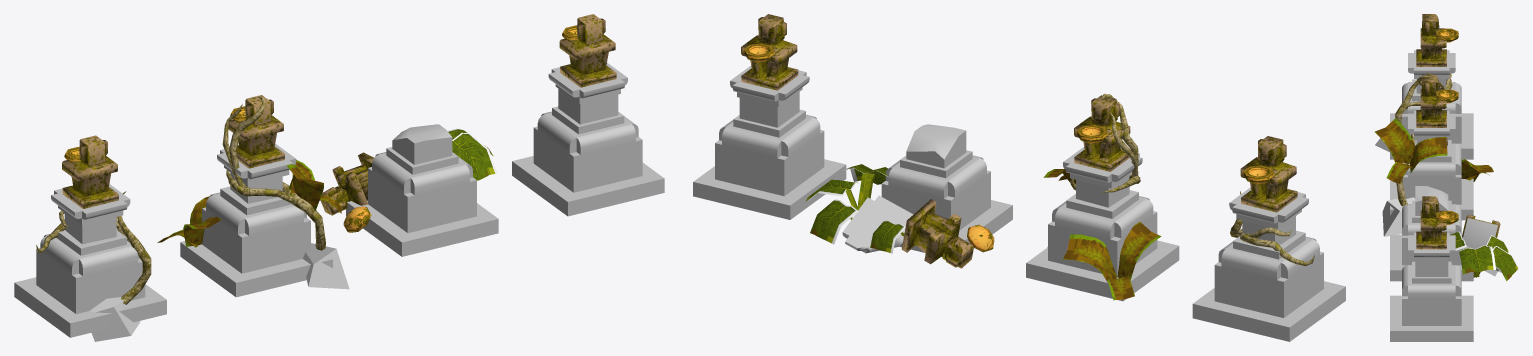
File: Jungle_Statue.fbx
The picture shows the model from 3 angles, left to right: view 1: azimuth 30°, elevation 25°; view 2: azimuth 150°, elevation 25°; view 3: azimuth 270°, elevation 25°; orthographic projection. The views are drawn at different scales.
Visible parts, largest first — view 1: Statue_C, Statue_D, Statue_A, Statue_B; view 2: Statue_B, Statue_C, Statue_D, Statue_A; view 3: Statue_C, Statue_A, Statue_B, Statue_D.
Boxes of the visible parts, x1=… form: Statue_C: x1=157, y1=95, x2=349, y2=297; Statue_D: x1=14, y1=135, x2=166, y2=341; Statue_A: x1=512, y1=14, x2=664, y2=216; Statue_B: x1=321, y1=124, x2=498, y2=256; Statue_B: x1=805, y1=124, x2=1012, y2=268; Statue_C: x1=1026, y1=93, x2=1179, y2=301; Statue_D: x1=1192, y1=136, x2=1345, y2=341; Statue_A: x1=693, y1=14, x2=846, y2=219; Statue_C: x1=1374, y1=74, x2=1493, y2=236; Statue_A: x1=1390, y1=196, x2=1473, y2=341; Statue_B: x1=1390, y1=186, x2=1518, y2=281; Statue_D: x1=1375, y1=14, x2=1473, y2=159.
Size of the model in its own units: 1078 by 322 by 301.
